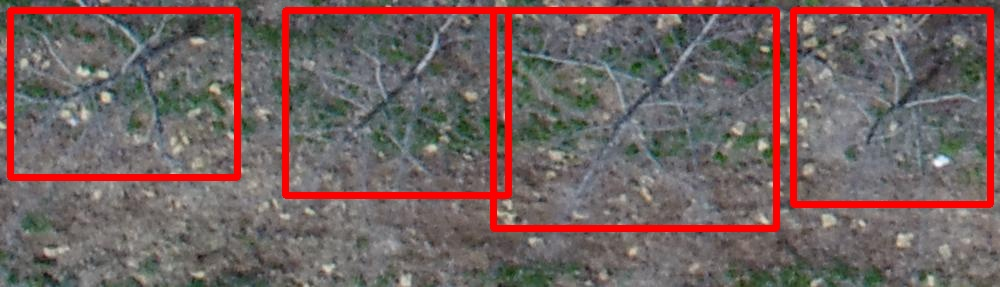apple: (493, 10, 776, 228), (285, 10, 508, 195), (793, 10, 990, 204), (10, 10, 237, 177)
